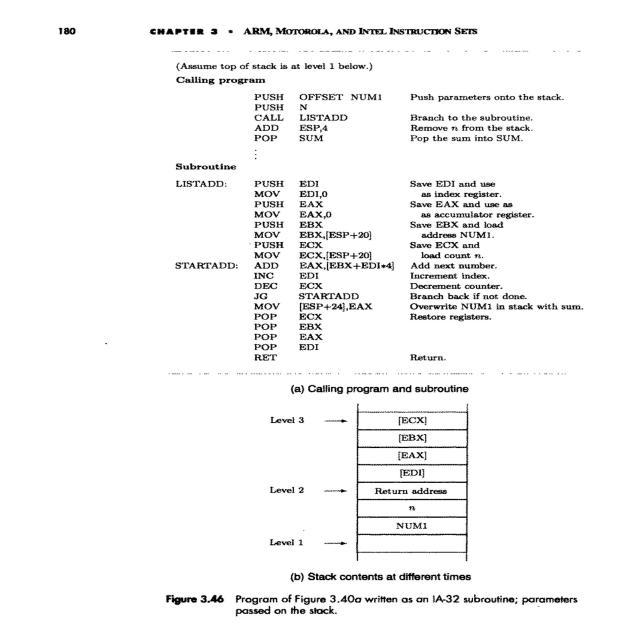diagram: (109, 372, 640, 640)
